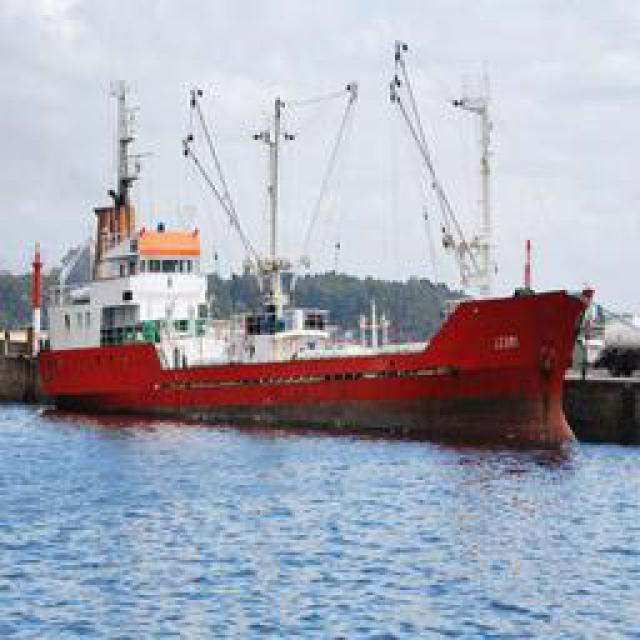Ship: (23, 45, 618, 433)
